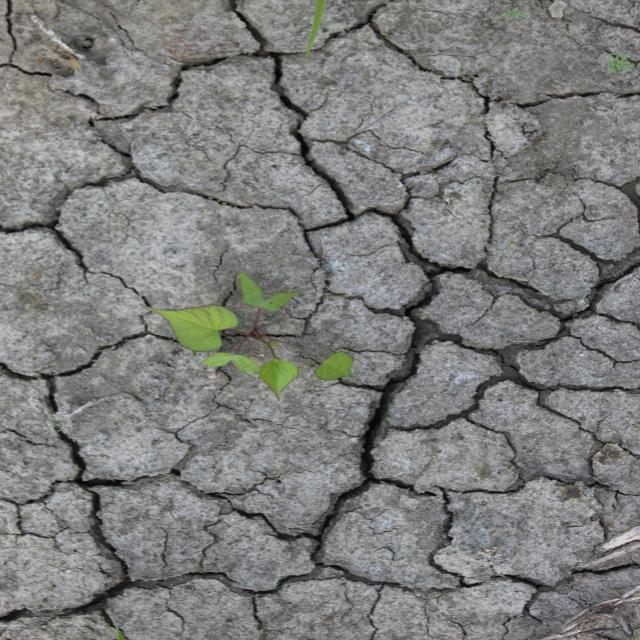MorningGlory: (138, 270, 356, 403)
